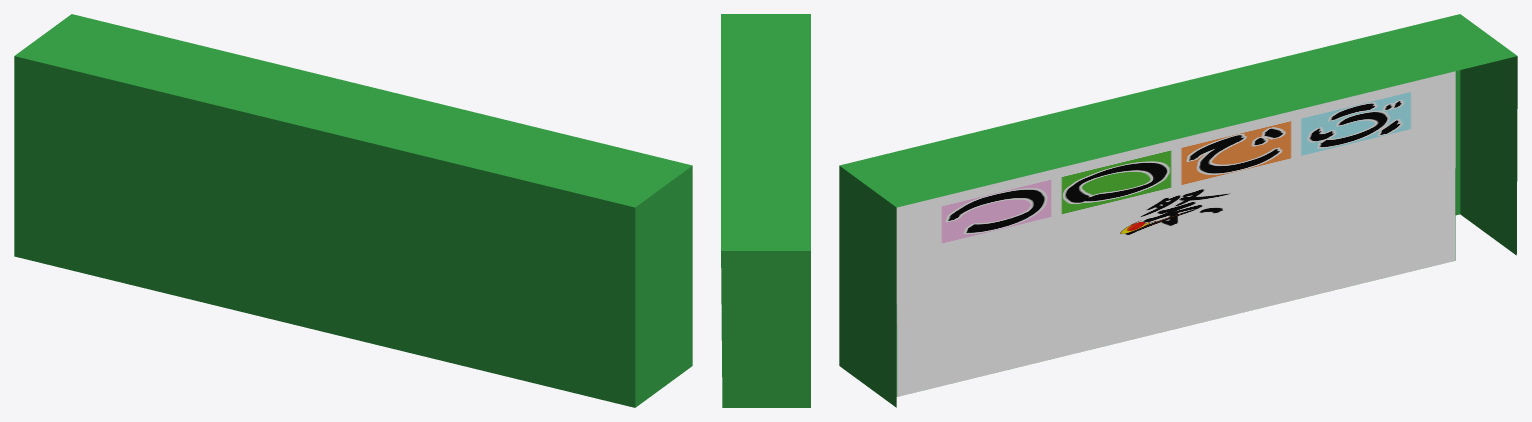
File: Goal_Wall3.fbx
The picture shows the model from 3 angles, left to right: view 1: azimuth 30°, elevation 25°; view 2: azimuth 150°, elevation 25°; view 3: azimuth 270°, elevation 25°; orthographic projection. The views are drawn at different scales.
Parts seen in each view (by area): view 1: polySurface116; view 2: polySurface116; view 3: polySurface116.
Boxes of the visible parts, <box> form: polySurface116: <box>14,14,692,407</box>; polySurface116: <box>721,14,810,407</box>; polySurface116: <box>839,14,1517,407</box>.
Bounding box in the file's own units: 15.97 × 7.71 × 23.65.
1 material, 1 textured.
